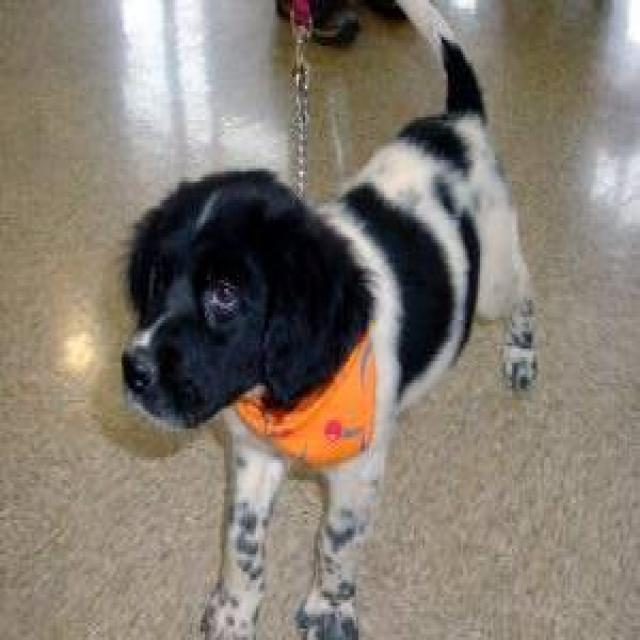dog: (117, 0, 540, 637)
